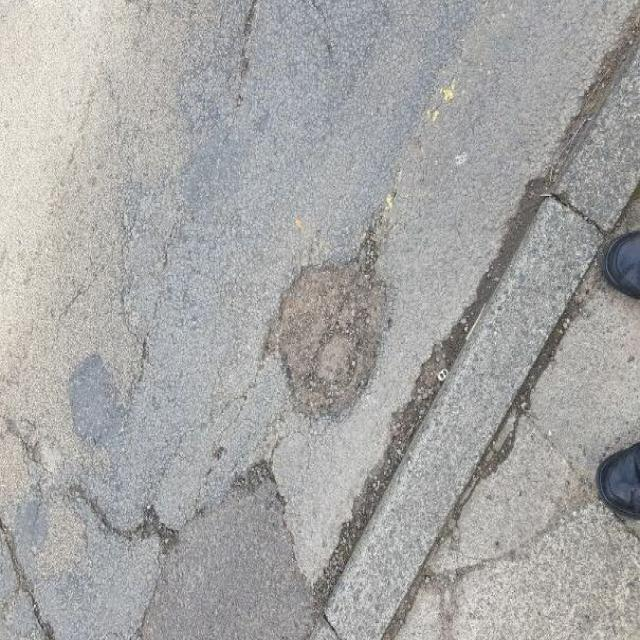Pothole: (258, 201, 396, 424)
